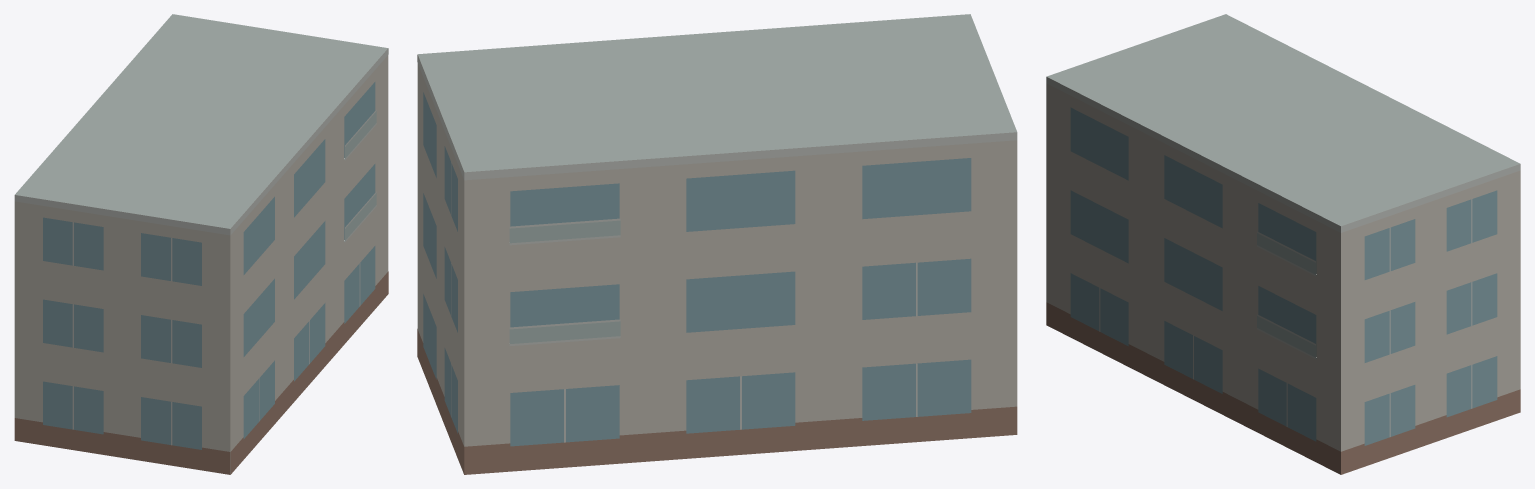
The model's file is survey-upis-32722017.glb.
3 renders of one model, left to right at view 1: azimuth 30°, elevation 25°; view 2: azimuth 150°, elevation 25°; view 3: azimuth 270°, elevation 25°, orthographic. The views are drawn at different scales.
Parts seen in each view (by area): view 1: survey-upis-32722017.tmp; view 2: survey-upis-32722017.tmp; view 3: survey-upis-32722017.tmp.
Boxes of the visible parts, x1,y1,x2,y2 form: survey-upis-32722017.tmp: [14, 14, 388, 474]; survey-upis-32722017.tmp: [417, 14, 1017, 474]; survey-upis-32722017.tmp: [1046, 14, 1520, 474].
Size of the model in its own units: 16.78 by 9.15 by 15.83.
